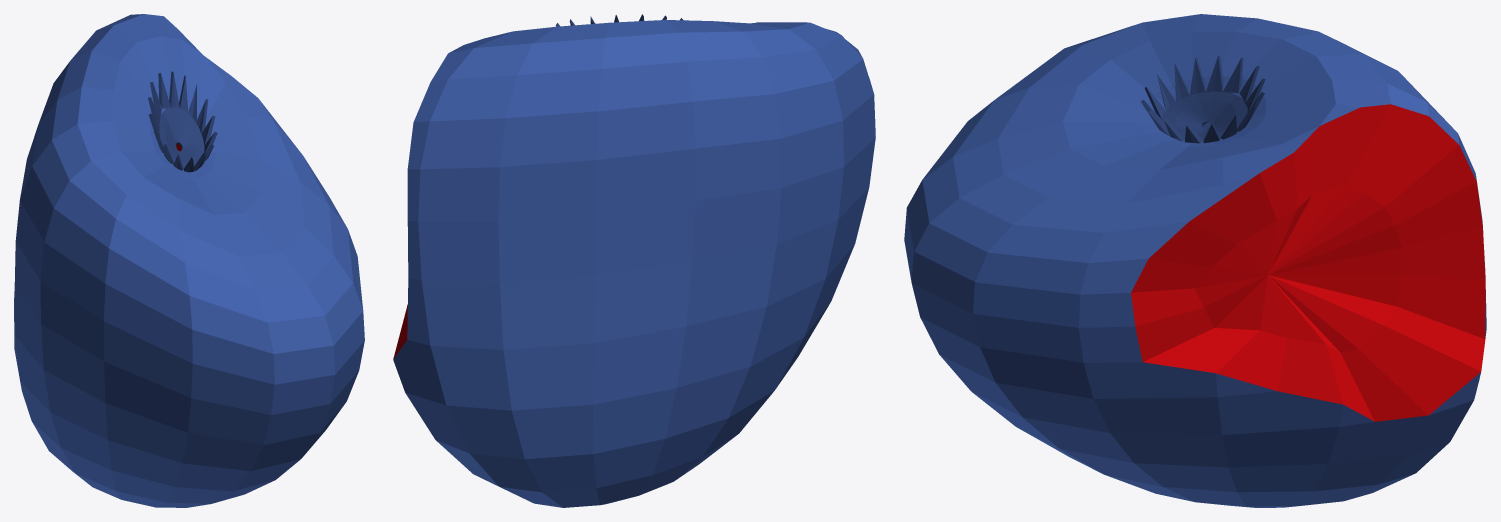
Rendered from Bad_3.fbx.
3 renders of one model, left to right at view 1: azimuth 30°, elevation 25°; view 2: azimuth 150°, elevation 25°; view 3: azimuth 270°, elevation 25°, orthographic. The views are drawn at different scales.
Visible parts, largest first — view 1: BerryBad.003; view 2: BerryBad.003; view 3: BerryBad.003.
Part boxes in pixels (box(x1,y1,x2,y2)): BerryBad.003: box(14, 14, 364, 507); BerryBad.003: box(393, 14, 875, 507); BerryBad.003: box(904, 14, 1486, 507).
Size of the model in its own units: 109 by 144 by 167.
